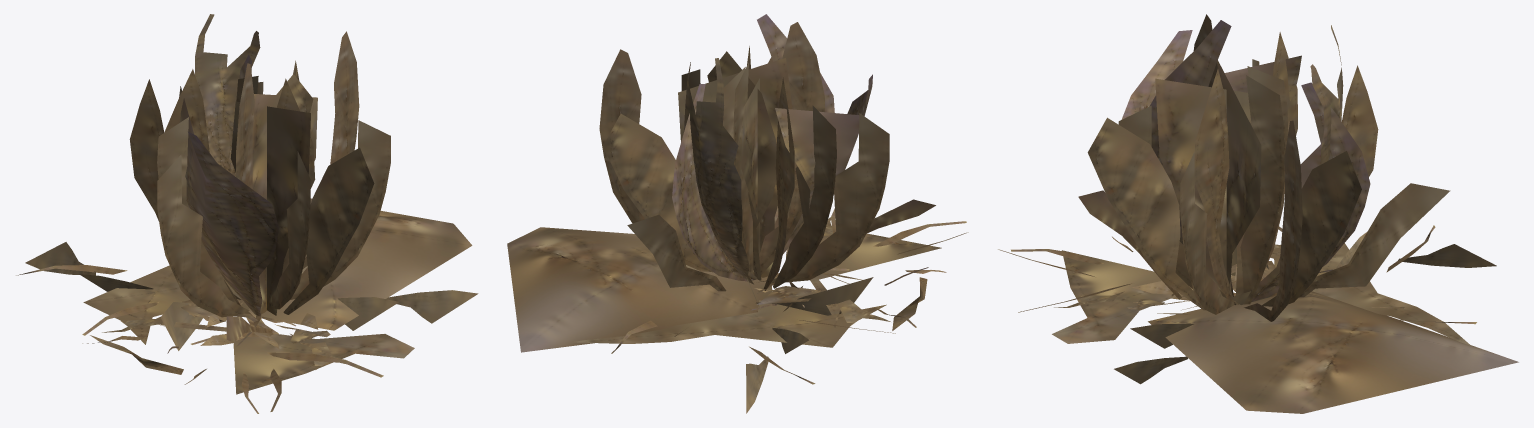
The model's file is SM_Weed_1.fbx.
3 views of the same model, side by side, from view 1: azimuth 30°, elevation 25°; view 2: azimuth 150°, elevation 25°; view 3: azimuth 270°, elevation 25° (orthographic). The views are drawn at different scales.
Visible parts, largest first — view 1: SM_Weed_1_LOD0; view 2: SM_Weed_1_LOD0; view 3: SM_Weed_1_LOD0.
Boxes of the visible parts, x1,y1,x2,y2 form: SM_Weed_1_LOD0: (16, 14, 478, 413); SM_Weed_1_LOD0: (507, 14, 968, 413); SM_Weed_1_LOD0: (998, 14, 1518, 413).
Bounding box in the file's own units: 68.79 × 74.33 × 48.38.
1 material, 1 textured.
